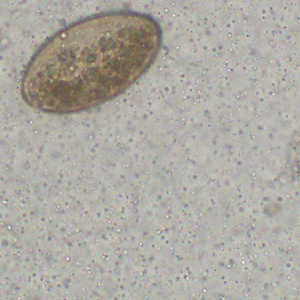Fasciola_hepatica_egg: (19, 9, 163, 115)
